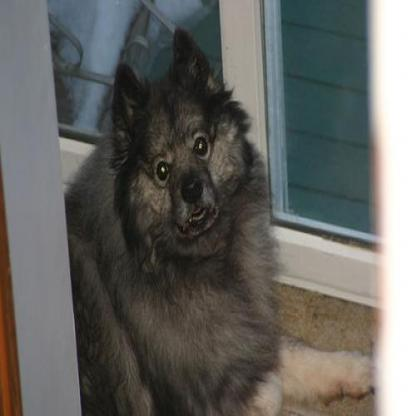keeshond: (63, 23, 374, 414)
